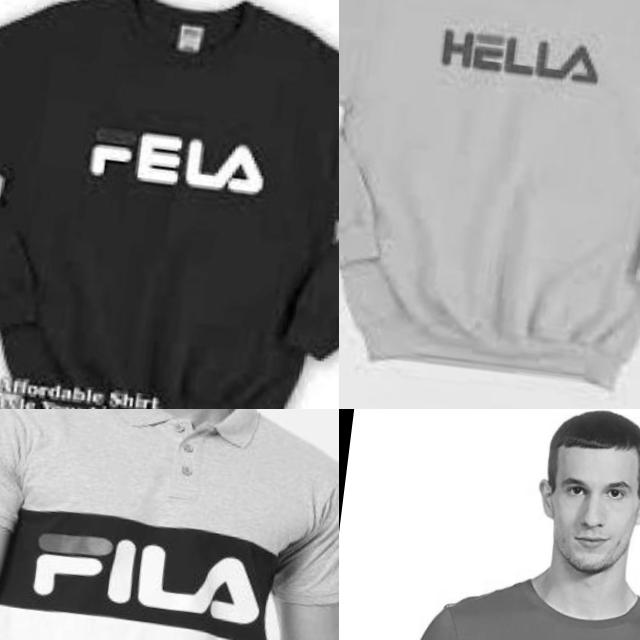FILA_fake: (64, 85, 282, 216), (421, 0, 629, 106)
FILA_original: (1, 496, 280, 640)
